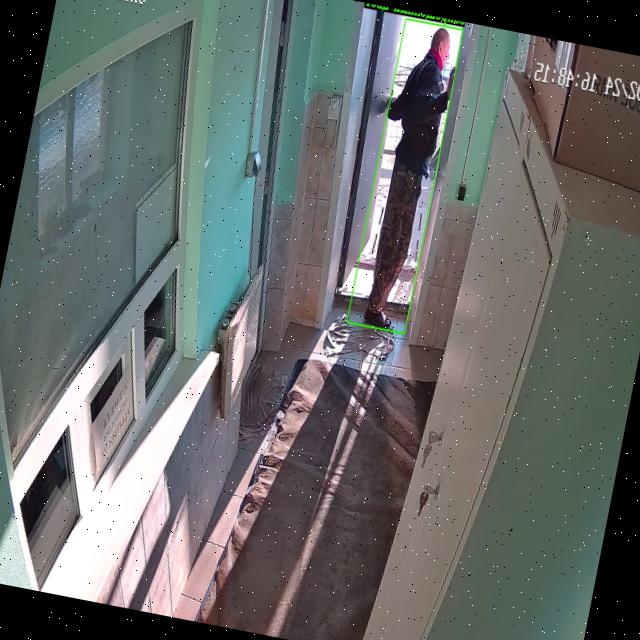Person: (364, 28, 453, 328)
